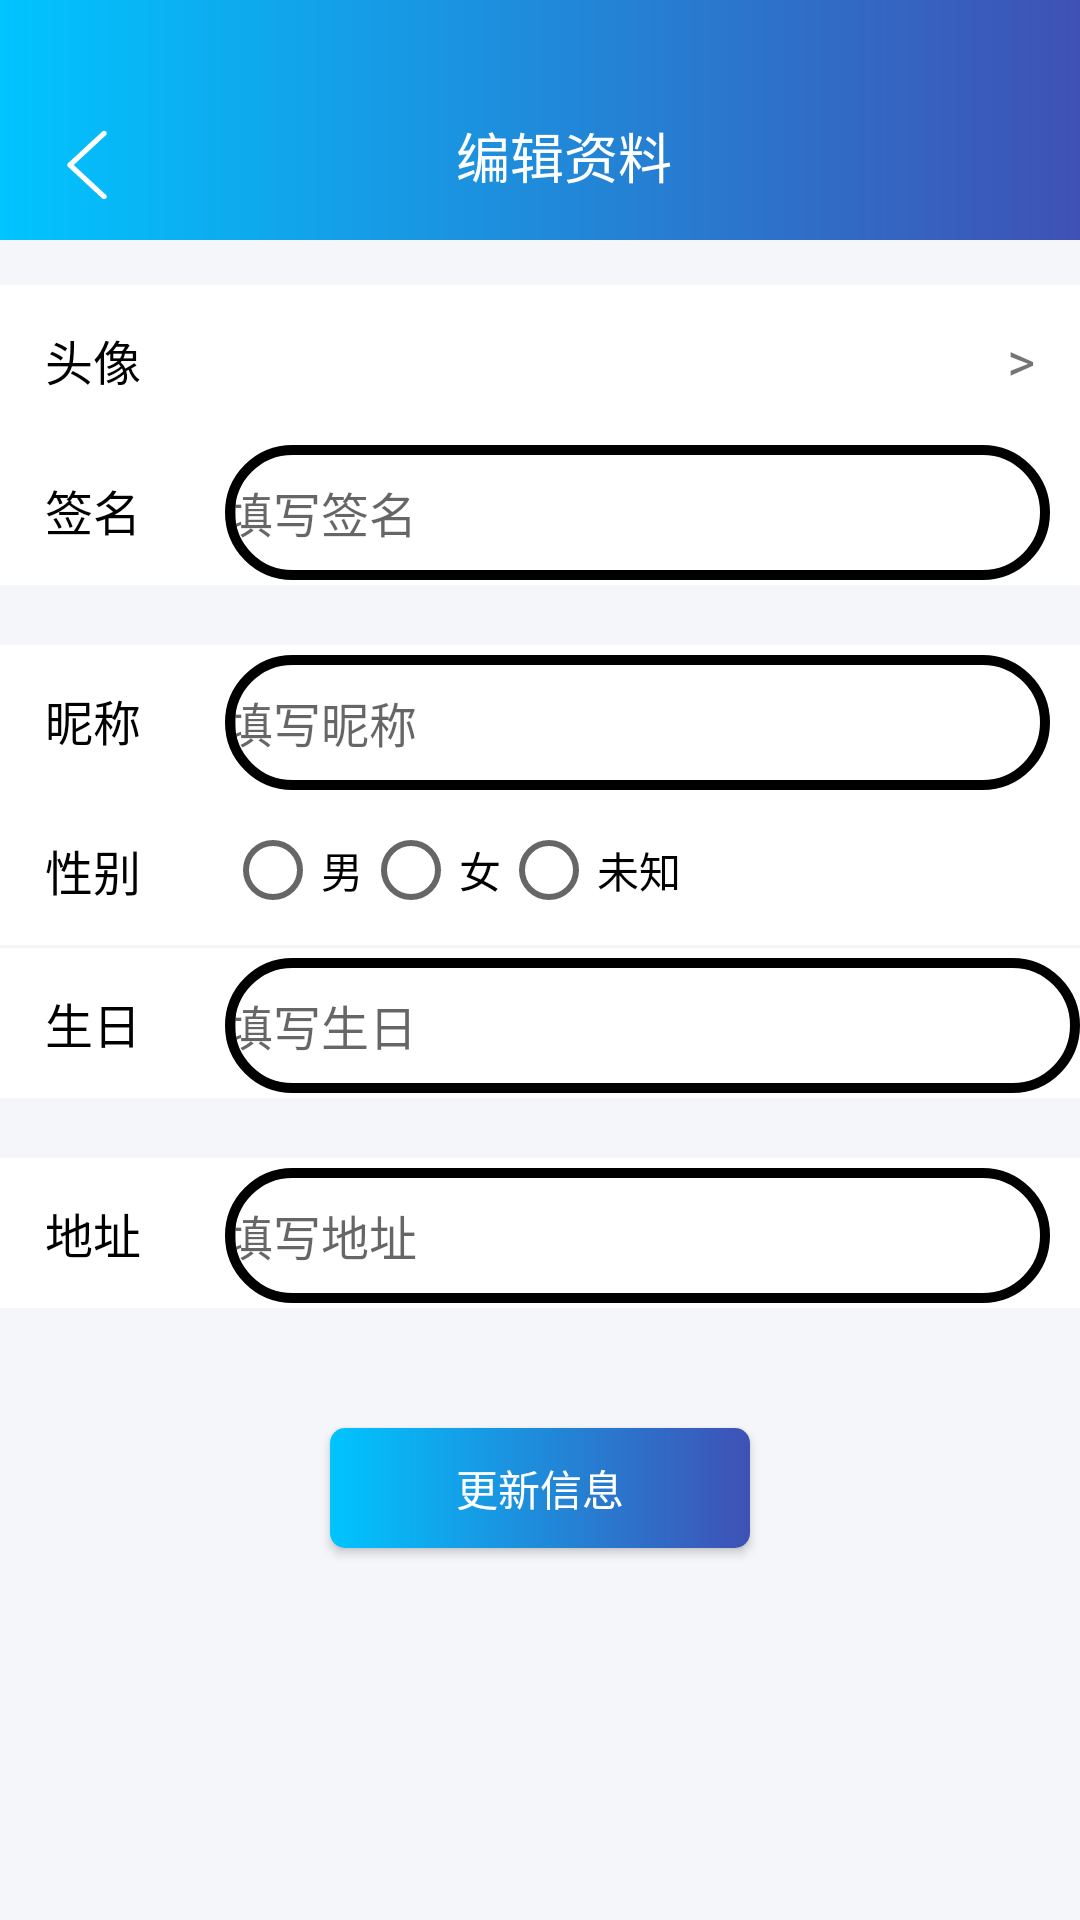

Icon click points for this 1080x1920 phone screenshot, format (x=x, y=y):
back: (x=87, y=164)
